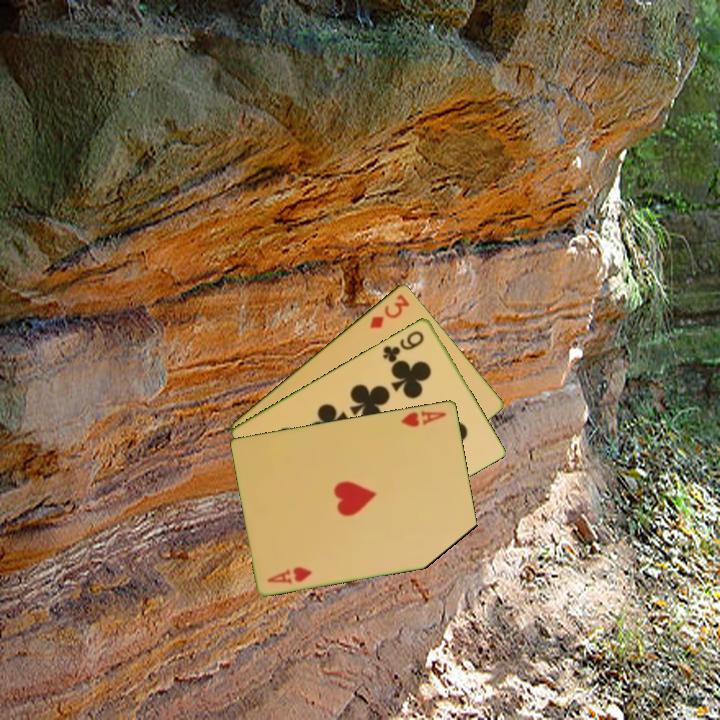3d: (366, 290, 412, 331)
9c: (379, 327, 427, 365)
Ah: (263, 563, 315, 586), (397, 407, 449, 429)
